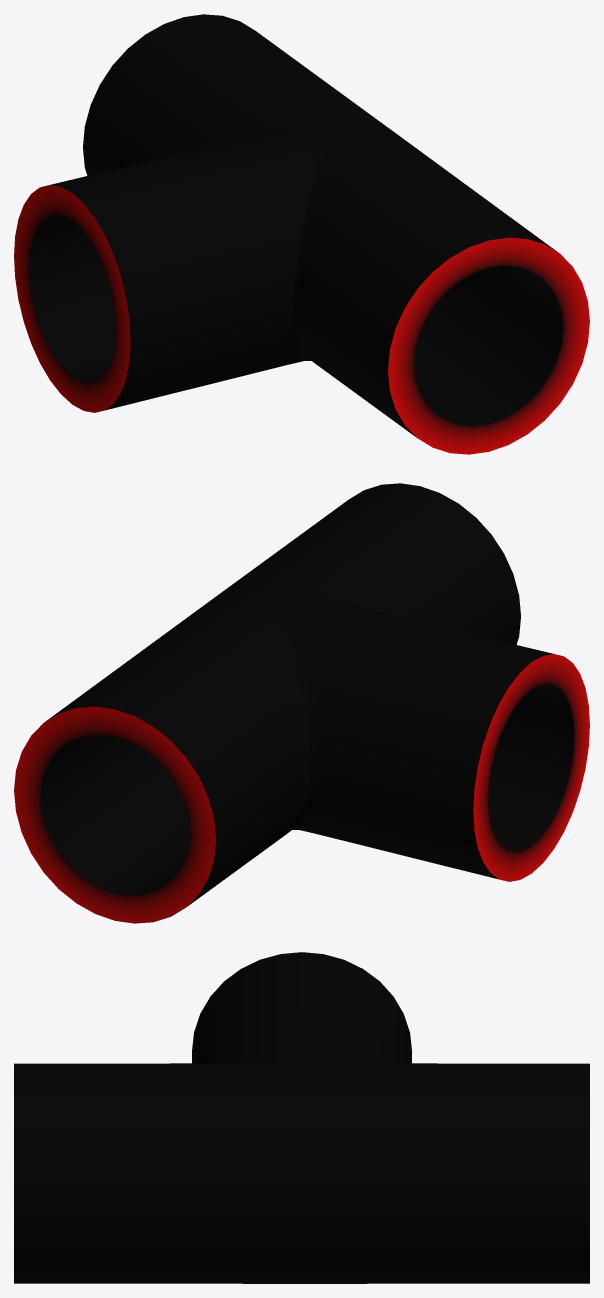
Rendered from Dungeon_Pipe_TPipe.FBX.
The picture shows the model from 3 angles, top to bottom: view 1: azimuth 30°, elevation 25°; view 2: azimuth 150°, elevation 25°; view 3: azimuth 270°, elevation 25°; orthographic projection. The views are drawn at different scales.
Parts seen in each view (by area): view 1: tpipe; view 2: tpipe; view 3: tpipe.
Part boxes in pixels (bbox=[...]): tpipe: bbox=[14, 14, 589, 454]; tpipe: bbox=[14, 483, 589, 923]; tpipe: bbox=[14, 952, 589, 1283].
Bounding box in the file's own units: 27.27 × 15.12 × 39.44.
